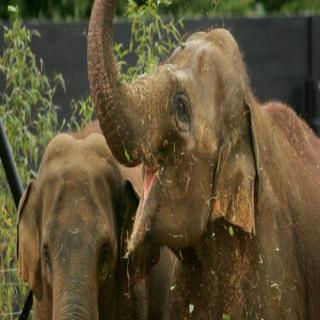Elephant: (87, 0, 320, 320), (13, 112, 146, 320)
